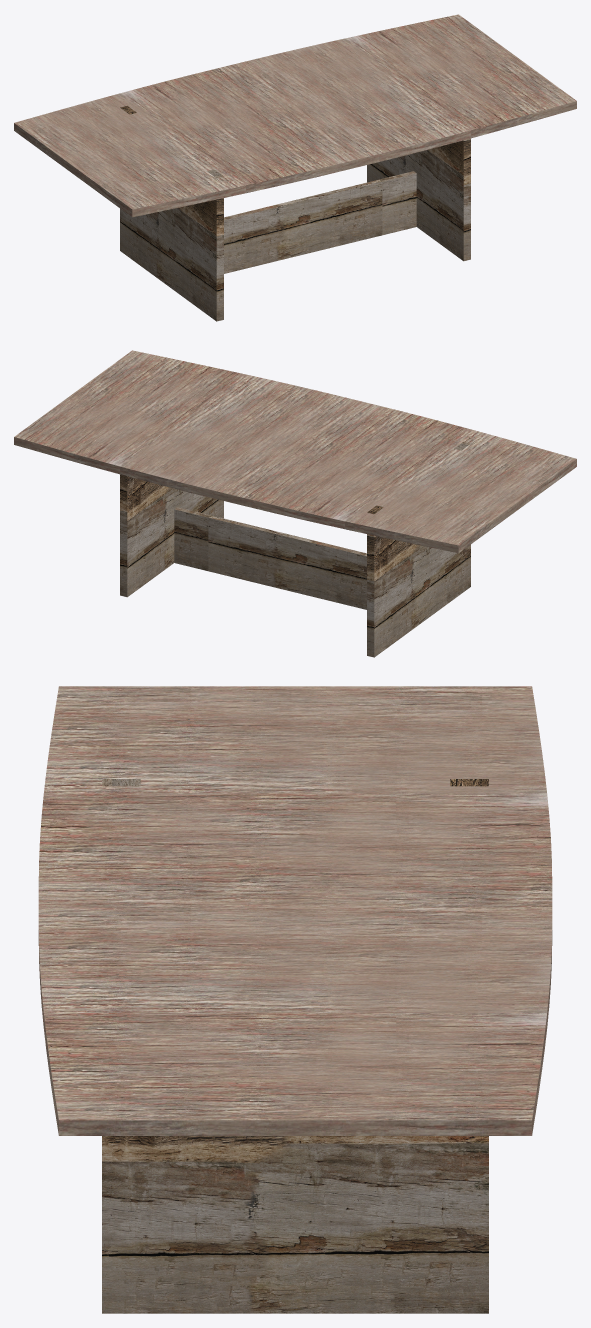
File: TV_table.FBX
The picture shows the model from 3 angles, top to bottom: view 1: azimuth 30°, elevation 25°; view 2: azimuth 150°, elevation 25°; view 3: azimuth 270°, elevation 25°; orthographic projection. The views are drawn at different scales.
Parts seen in each view (by area): view 1: Box04, Box03, Box01, Box02; view 2: Box04, Box03, Box01, Box02; view 3: Box04, Box02.
Part boxes in pixels (x1=…): Box04: x1=14, y1=14, x2=576, y2=217; Box03: x1=224, y1=171, x2=416, y2=273; Box01: x1=120, y1=105, x2=223, y2=321; Box02: x1=367, y1=138, x2=470, y2=261; Box04: x1=14, y1=350, x2=576, y2=553; Box03: x1=174, y1=507, x2=366, y2=609; Box01: x1=367, y1=441, x2=470, y2=657; Box02: x1=120, y1=474, x2=223, y2=597; Box04: x1=38, y1=686, x2=552, y2=1135; Box02: x1=102, y1=1136, x2=488, y2=1313.
Bounding box in the file's own units: 22.72 × 6.99 × 11.36.
Materials: 2 (2 with a texture image).
